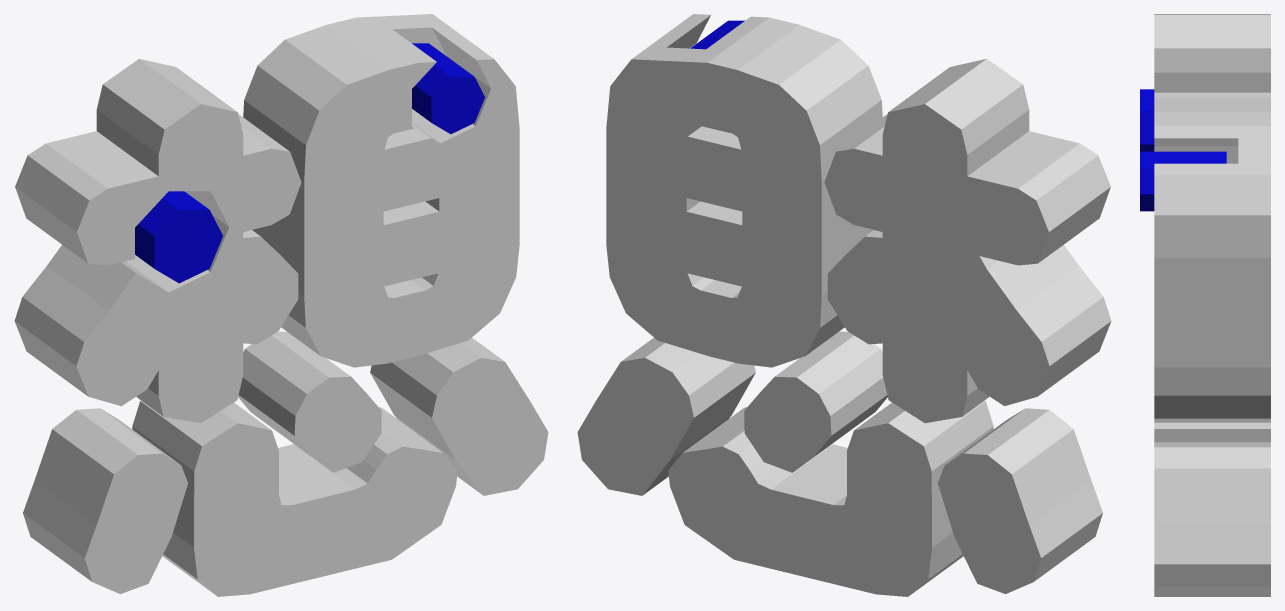
The model's file is Ch_Lite_China_想_01.fbx.
3 renders of one model, left to right at view 1: azimuth 30°, elevation 25°; view 2: azimuth 150°, elevation 25°; view 3: azimuth 270°, elevation 25°, orthographic. The views are drawn at different scales.
Visible parts, largest first — view 1: sphere1; view 2: sphere1; view 3: sphere1.
Boxes of the visible parts, x1,y1,x2,y2 form: sphere1: (14, 14, 548, 596); sphere1: (577, 14, 1111, 596); sphere1: (1140, 14, 1270, 596).
Size of the model in its own units: 0.8804 by 0.895 by 0.2242.
